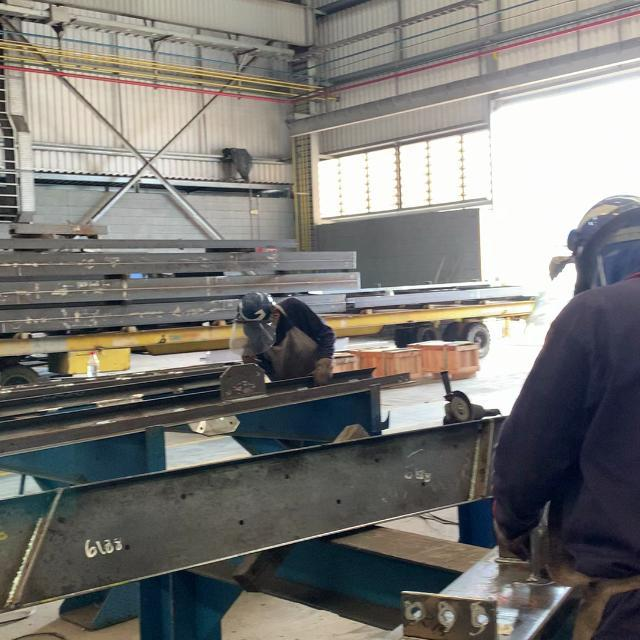eye-glass: (521, 258, 577, 323), (230, 320, 279, 353)
face-shield: (309, 357, 336, 389)
glove: (565, 194, 640, 251), (236, 291, 276, 322)
mask: (492, 194, 638, 638), (231, 290, 338, 385)
